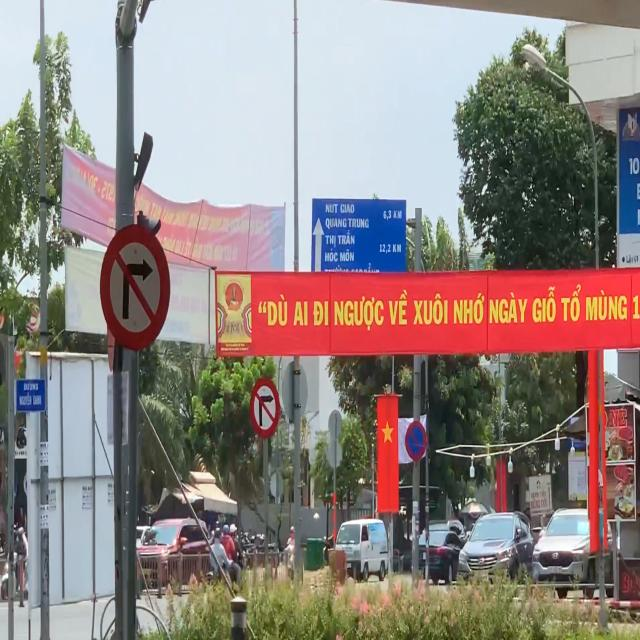Cam do: (404, 421, 426, 461)
Cam re phai: (99, 222, 171, 352), (250, 378, 280, 439)
